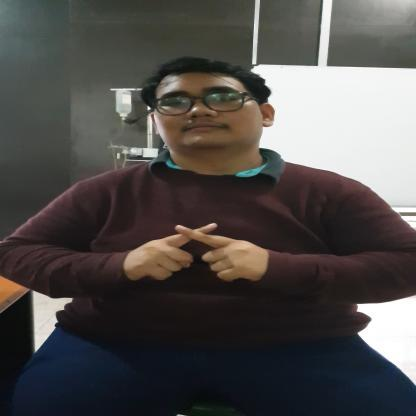X: (130, 222, 260, 283)
